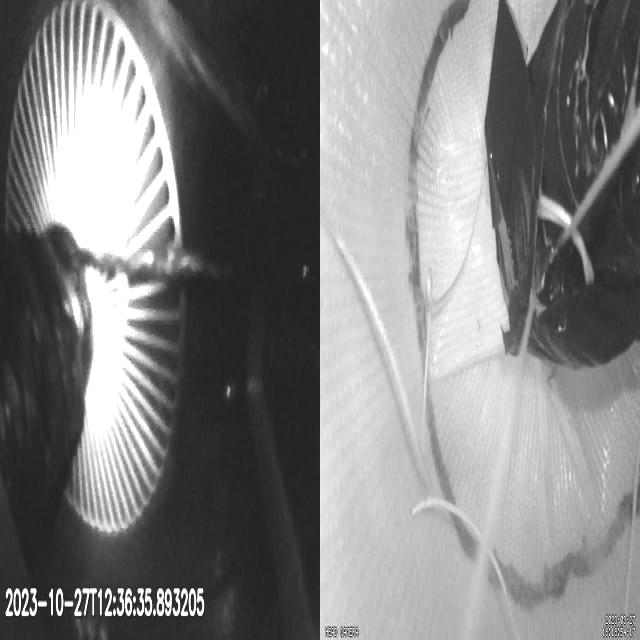red-circle: (406, 0, 640, 610)
